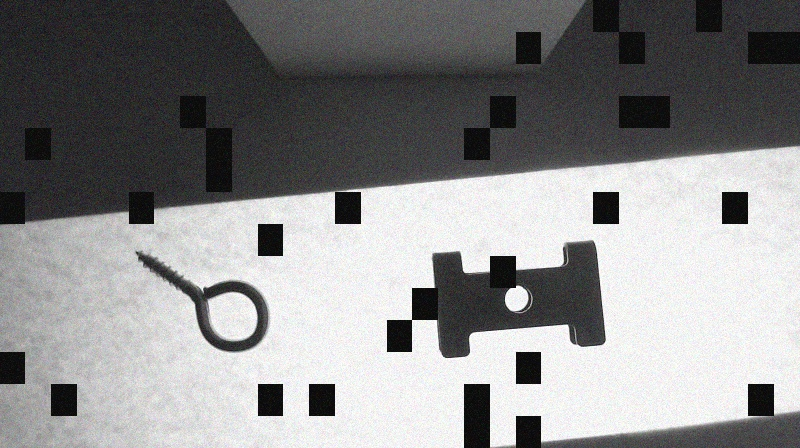O001: (131, 247, 268, 353)
O002: (429, 240, 607, 359)
